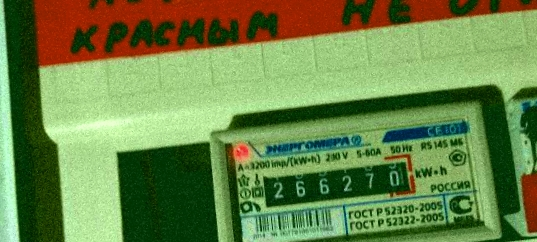0: (386, 167, 399, 188)
2: (269, 178, 286, 200), (339, 172, 353, 193)
6: (293, 177, 307, 199), (316, 175, 330, 195)
7: (362, 169, 376, 190)
screen: (248, 145, 426, 220)
